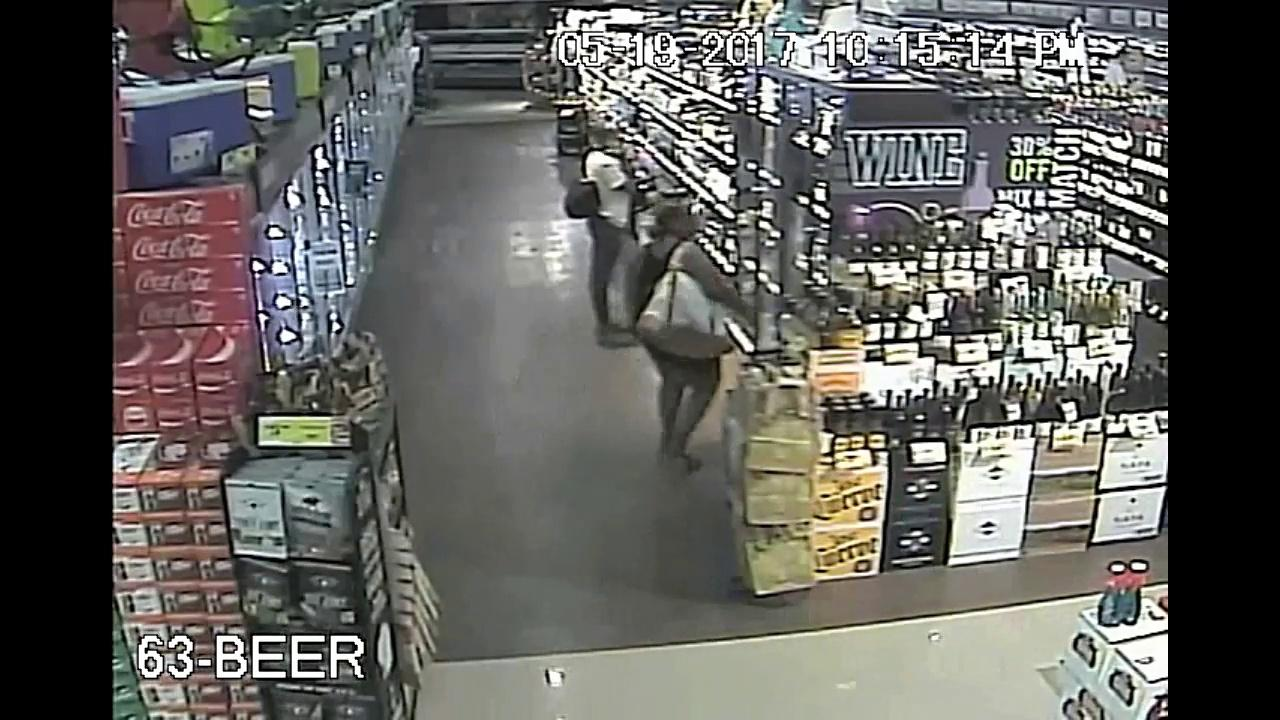3: (561, 219, 720, 525), (557, 118, 644, 329)
persone: (598, 299, 705, 406), (557, 178, 609, 223)
